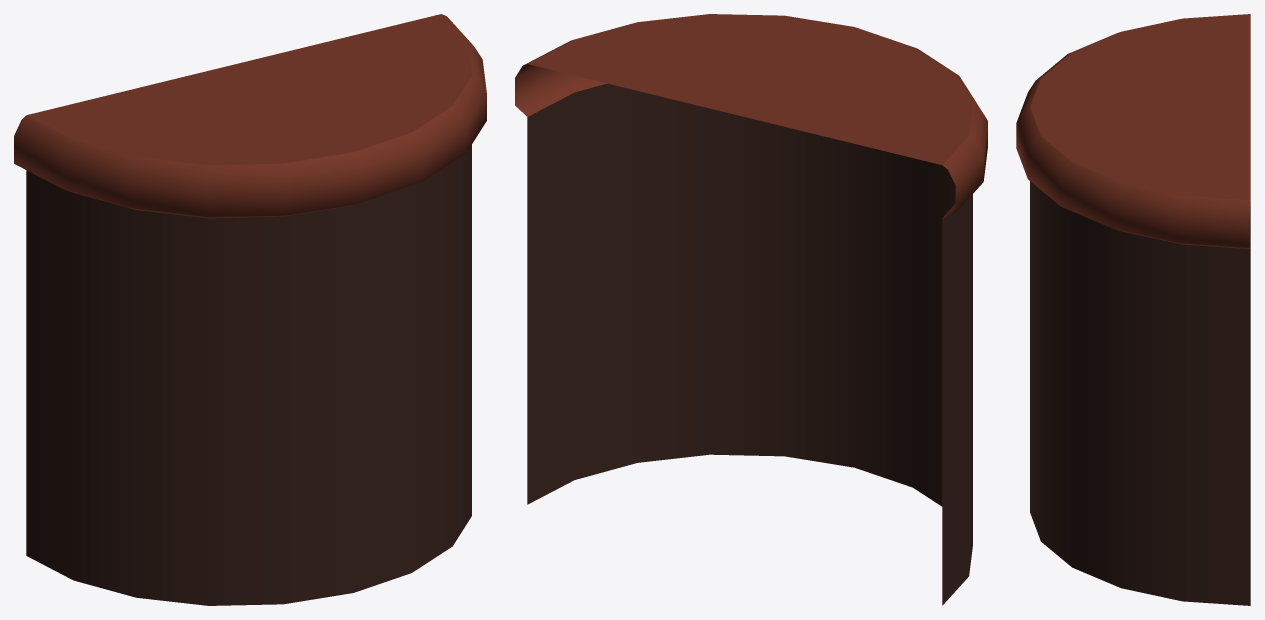
File: bar_end_right.FBX
The picture shows the model from 3 angles, left to right: view 1: azimuth 30°, elevation 25°; view 2: azimuth 150°, elevation 25°; view 3: azimuth 270°, elevation 25°; orthographic projection. The views are drawn at different scales.
Parts seen in each view (by area): view 1: bar_end_right; view 2: bar_end_right; view 3: bar_end_right.
Part boxes in pixels (x1,y1,x2,y2): bar_end_right: [14, 14, 486, 605]; bar_end_right: [515, 14, 987, 605]; bar_end_right: [1016, 14, 1250, 605].
Size of the model in its own units: 2150 by 2055 by 1075.
1 material, 1 textured.
